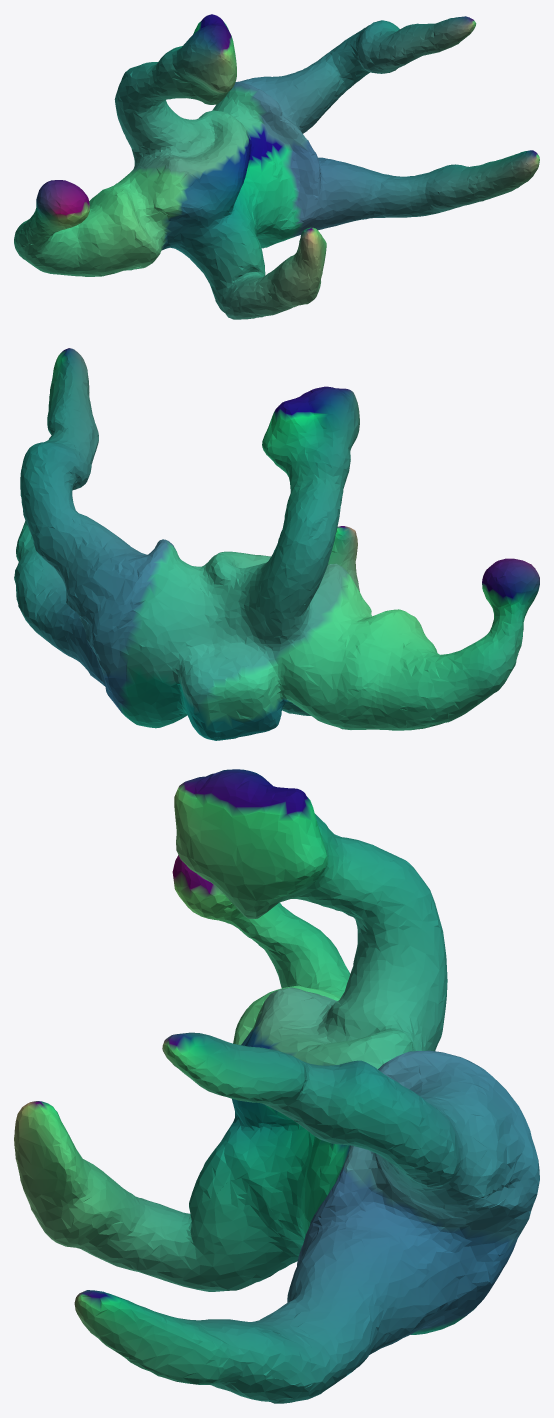
The model's file is santa-5.off.obj.
The picture shows the model from 3 angles, top to bottom: view 1: azimuth 30°, elevation 25°; view 2: azimuth 150°, elevation 25°; view 3: azimuth 270°, elevation 25°; orthographic projection. The views are drawn at different scales.
Bounding box in the file's own units: 1.63 × 0.9629 × 0.9172.
